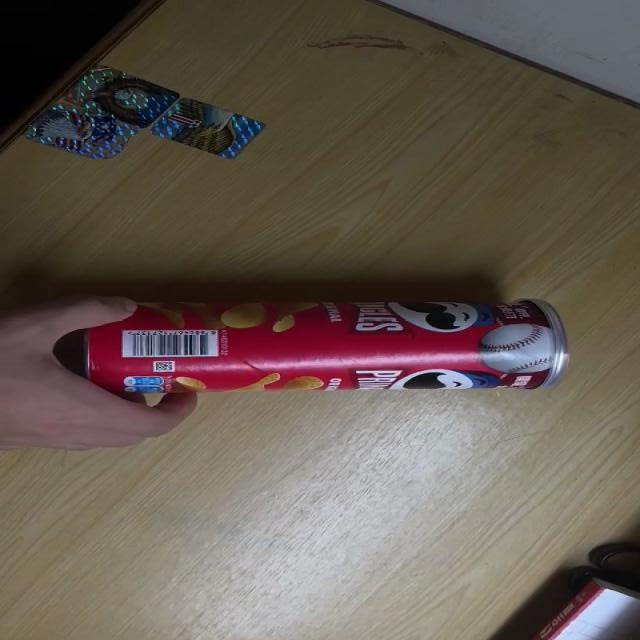Pringles: (79, 296, 570, 400)
